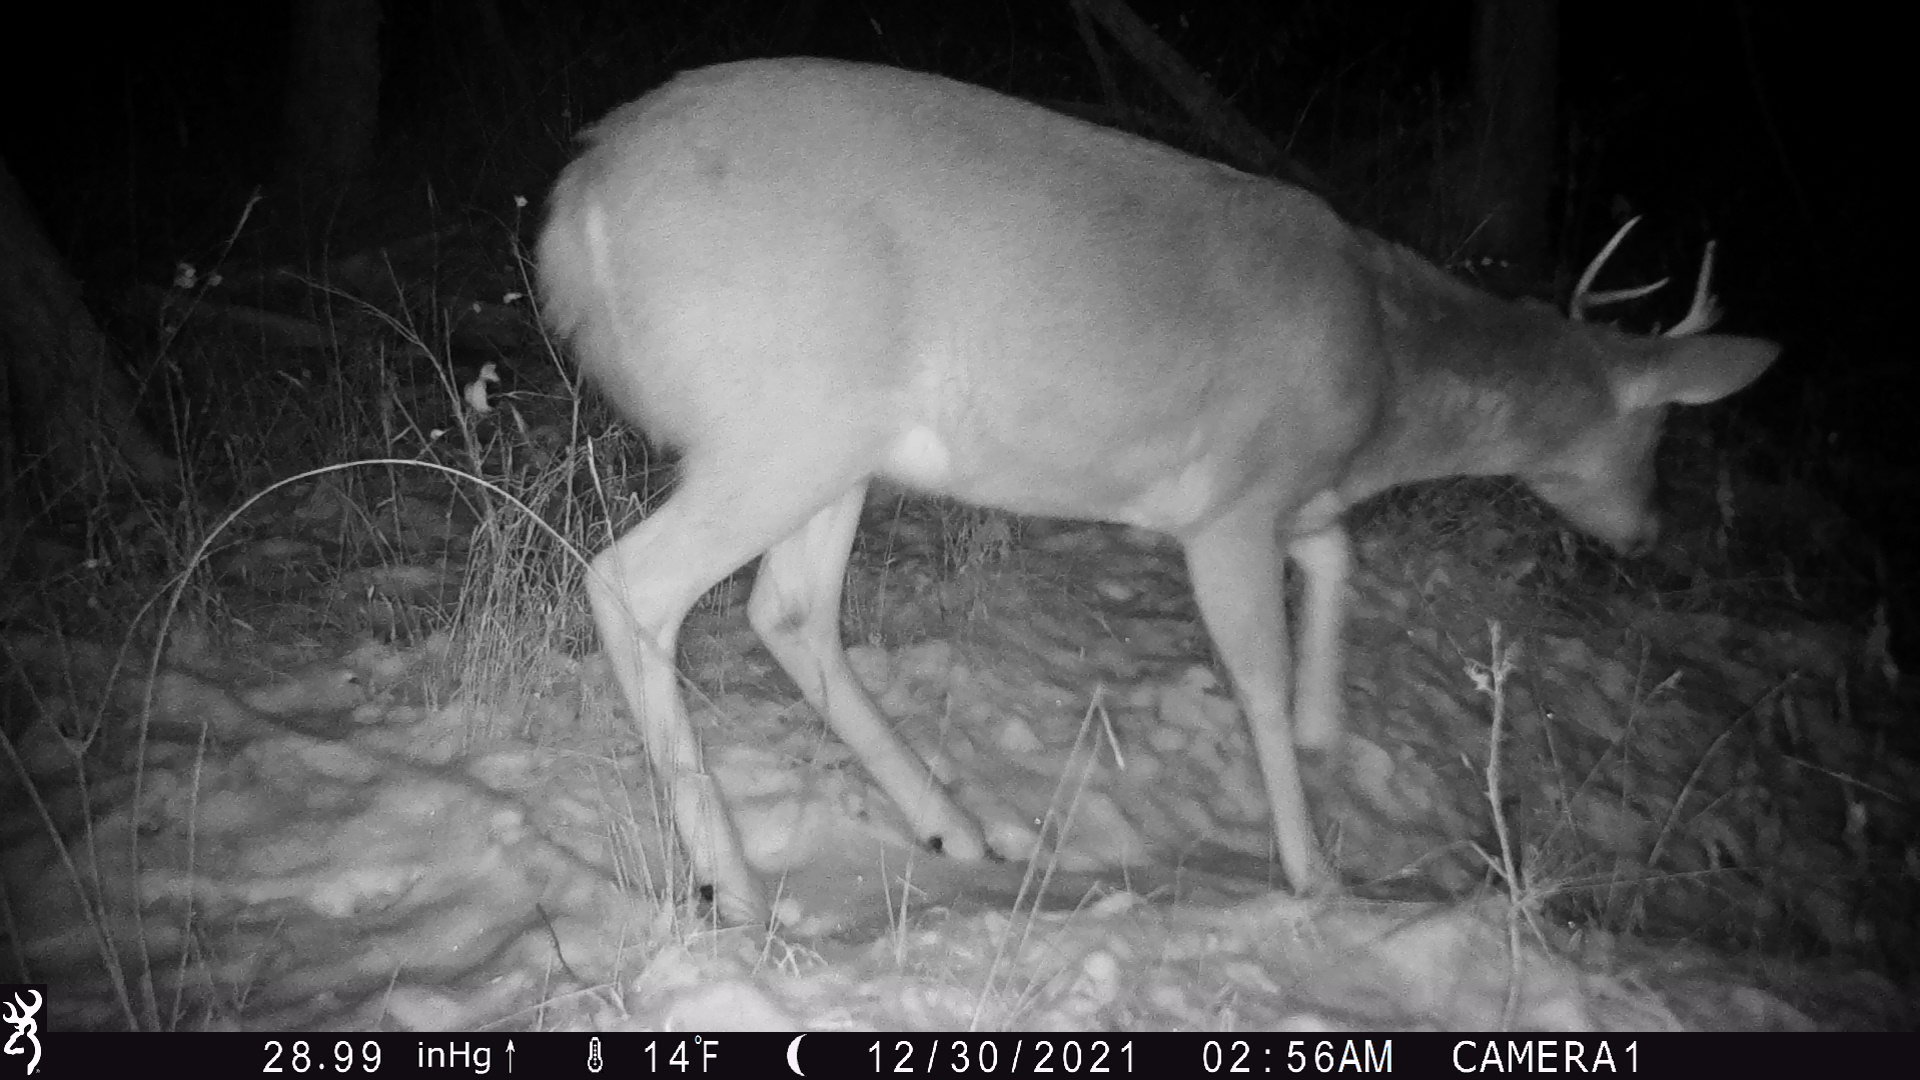DeerBuck: (538, 57, 1781, 922)
DeerBuckHead: (1568, 216, 1781, 562)
